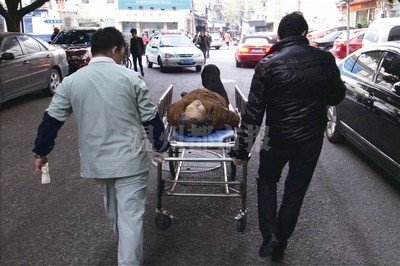fall: (164, 59, 240, 130)
